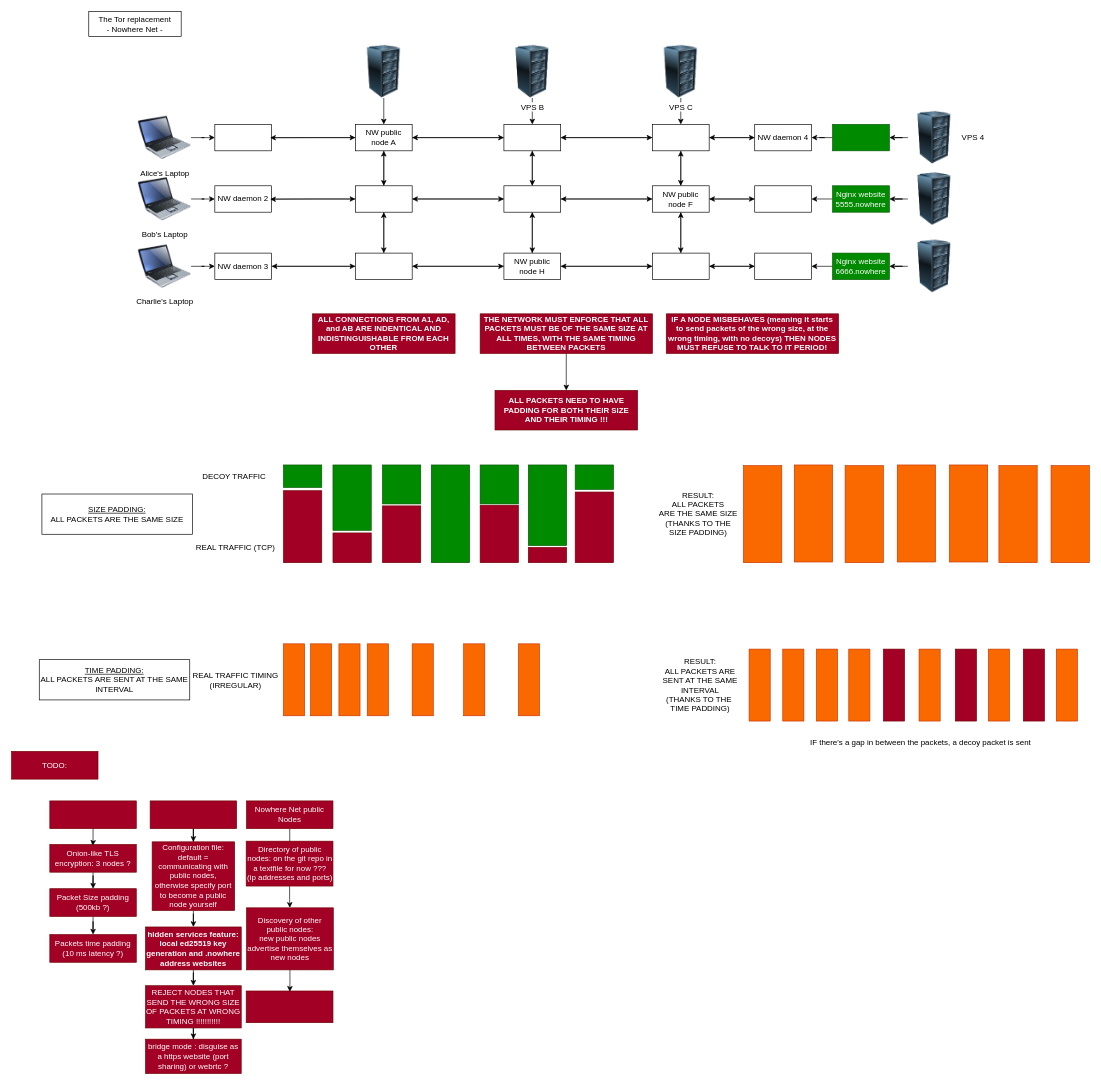
The diagram is 1101 pixels wide and 1085 high, and some of its shapes have lost their labels. The shapes that lost their labels are listed below. From the top down, each one's centre as x and y in pixels, then its label:
At (x=383, y=71): "VPS A".
At (x=243, y=137): "NW daemon 1".
At (x=532, y=137): "NW public node B".
At (x=680, y=137): "NW public node C".
At (x=860, y=137): "Nginx website 4444.nowhere".
At (x=383, y=198): "NW public node D".
At (x=532, y=198): "NW public node E".
At (x=782, y=198): "NW daemon 5".
At (x=934, y=198): "VPS 5".
At (x=383, y=266): "NW public node G".
At (x=680, y=266): "NW public node I".
At (x=782, y=266): "NW daemon 6".
At (x=934, y=266): "VPS 6".
At (x=92, y=814): "The Nowhere Net TCP Protocol".
At (x=193, y=814): "NowhereNet Daemon".
At (x=289, y=1006): "No need to bother with sybil attacks since padding takes care of it".
